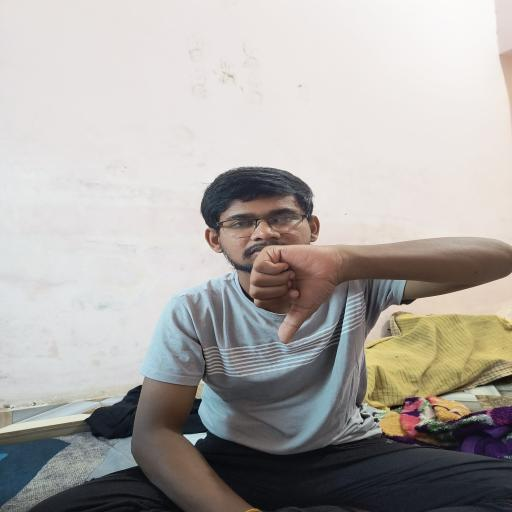Continue: (241, 242, 360, 347)
